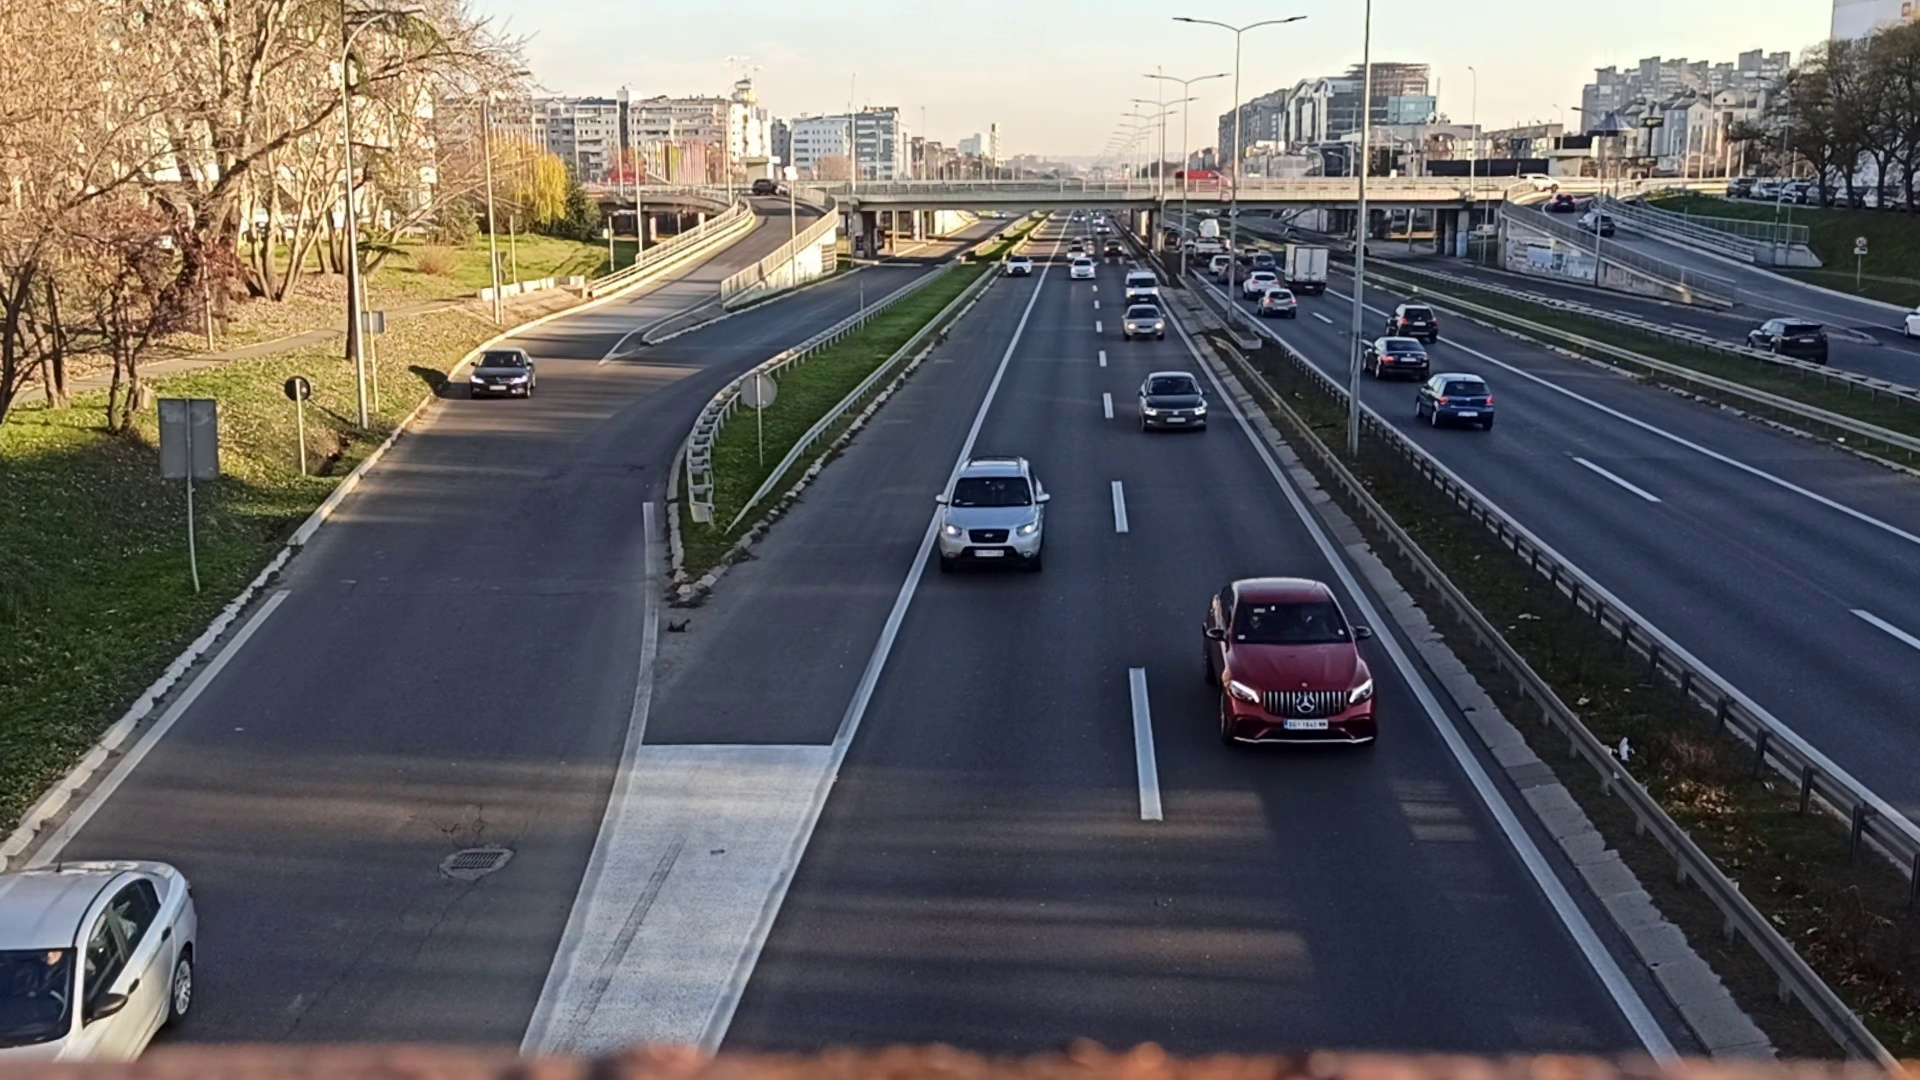car: (1193, 574, 1379, 762), (935, 456, 1058, 575), (1134, 365, 1208, 436), (1418, 371, 1495, 433), (469, 345, 535, 401), (1358, 336, 1428, 378), (1386, 301, 1435, 342), (1120, 305, 1166, 339), (1124, 269, 1160, 303)
